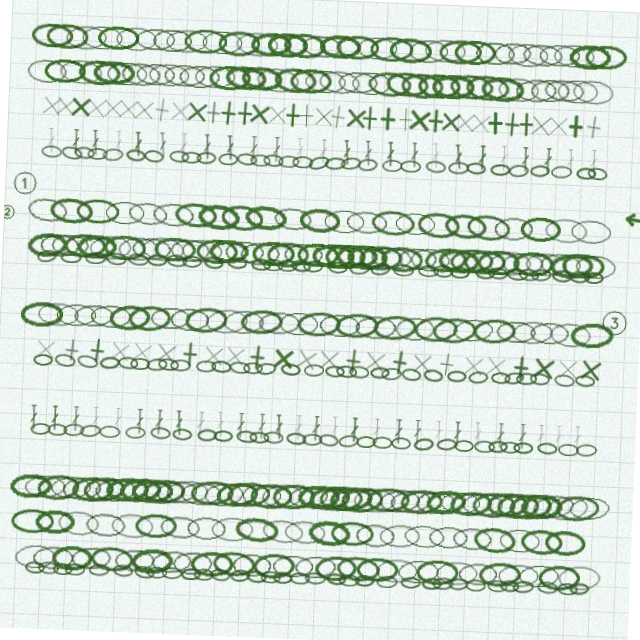chain: (538, 482, 584, 513), (551, 483, 598, 513), (335, 483, 381, 513), (89, 483, 134, 513), (161, 483, 206, 513), (222, 483, 267, 513), (515, 483, 560, 513), (209, 483, 253, 513), (315, 483, 359, 513), (347, 483, 391, 513), (184, 310, 229, 339), (451, 310, 496, 339), (233, 483, 278, 512), (384, 483, 429, 512), (395, 483, 440, 512), (204, 311, 250, 339), (432, 311, 478, 339), (562, 484, 608, 512), (21, 206, 65, 235), (421, 241, 465, 270), (43, 483, 87, 512), (67, 483, 111, 512), (125, 483, 169, 512), (267, 483, 311, 512), (293, 483, 337, 512), (246, 68, 291, 96), (462, 207, 507, 235), (503, 484, 548, 512), (481, 519, 526, 547), (432, 483, 475, 512), (308, 68, 352, 96), (122, 207, 166, 235), (216, 207, 260, 235), (547, 242, 591, 270), (108, 311, 152, 339), (128, 311, 172, 339), (373, 311, 417, 339), (100, 484, 144, 512), (149, 484, 193, 512), (407, 484, 451, 512), (456, 484, 500, 512), (575, 484, 619, 512), (269, 519, 313, 547), (159, 554, 203, 582), (49, 68, 94, 95), (138, 242, 183, 269), (567, 554, 612, 581), (193, 207, 236, 235), (440, 207, 483, 235), (78, 484, 121, 512), (272, 33, 316, 60), (68, 68, 112, 95), (264, 68, 308, 95), (376, 68, 420, 95), (440, 68, 484, 95), (456, 68, 500, 95), (562, 68, 606, 95), (45, 207, 89, 234), (147, 207, 191, 234), (170, 207, 214, 234), (367, 207, 411, 234), (367, 242, 411, 269), (447, 242, 491, 269), (240, 311, 284, 338), (297, 311, 341, 338), (335, 311, 379, 338), (414, 311, 458, 338), (473, 311, 517, 338), (570, 311, 614, 338), (30, 484, 74, 511), (56, 484, 100, 511), (112, 484, 156, 511), (172, 484, 216, 511), (197, 484, 241, 511), (279, 484, 323, 511), (326, 484, 370, 511), (373, 484, 417, 511), (468, 484, 512, 511), (493, 484, 537, 511), (243, 519, 287, 546), (411, 519, 455, 546), (100, 554, 144, 581), (222, 554, 266, 581), (262, 554, 306, 581), (303, 554, 347, 581), (346, 554, 390, 581), (406, 554, 450, 581), (488, 554, 532, 581), (527, 554, 571, 581), (24, 242, 66, 270), (540, 208, 585, 234), (110, 68, 153, 95), (215, 68, 258, 95), (231, 68, 274, 95), (533, 68, 576, 95), (240, 207, 283, 234), (413, 207, 456, 234), (511, 311, 554, 338), (16, 484, 59, 511), (304, 484, 347, 511), (421, 484, 464, 511), (527, 484, 570, 511), (65, 519, 108, 546), (316, 519, 359, 546), (23, 554, 66, 581), (79, 554, 122, 581), (140, 554, 183, 581), (324, 554, 367, 581), (224, 34, 268, 60), (358, 69, 402, 95), (391, 69, 435, 95), (471, 69, 515, 95), (114, 243, 158, 269), (356, 243, 400, 269), (498, 243, 542, 269), (222, 312, 266, 338), (257, 312, 301, 338), (360, 485, 404, 511), (479, 485, 523, 511), (481, 33, 523, 60), (268, 207, 310, 234), (54, 34, 97, 60), (154, 34, 197, 60), (239, 34, 282, 60), (289, 34, 332, 60), (378, 34, 421, 60), (428, 34, 471, 60), (510, 34, 553, 60), (16, 69, 59, 95), (505, 69, 548, 95), (341, 208, 384, 234), (86, 243, 129, 269), (178, 243, 221, 269), (264, 243, 307, 269), (378, 243, 421, 269), (435, 243, 478, 269), (486, 243, 529, 269), (522, 243, 565, 269), (20, 312, 63, 338), (37, 312, 80, 338), (55, 312, 98, 338), (72, 312, 115, 338), (354, 312, 397, 338), (394, 312, 437, 338), (549, 312, 592, 338), (186, 485, 229, 511), (257, 485, 300, 511), (92, 520, 135, 546), (119, 520, 162, 546), (292, 520, 335, 546), (529, 520, 572, 546), (41, 555, 84, 581), (200, 555, 243, 581), (385, 555, 428, 581), (445, 555, 488, 581), (507, 555, 550, 581), (359, 34, 403, 59), (207, 34, 249, 60), (397, 34, 439, 60), (496, 34, 538, 60), (488, 69, 530, 95), (295, 208, 337, 234), (489, 208, 531, 234), (566, 208, 608, 234), (128, 243, 170, 269), (236, 243, 278, 269), (461, 243, 503, 269), (572, 243, 614, 269), (138, 485, 180, 511), (167, 520, 209, 546), (363, 520, 405, 546), (387, 520, 429, 546), (460, 520, 502, 546), (553, 520, 595, 546), (123, 555, 165, 581), (181, 555, 223, 581), (467, 555, 509, 581), (548, 555, 590, 581), (35, 34, 78, 59), (86, 34, 129, 59), (104, 34, 147, 59), (173, 34, 216, 59), (190, 34, 233, 59), (325, 34, 368, 59), (413, 34, 456, 59), (443, 34, 486, 59), (527, 34, 570, 59), (542, 34, 585, 59), (574, 34, 617, 59), (34, 69, 77, 94), (96, 69, 139, 94), (138, 69, 181, 94), (153, 69, 196, 94), (168, 69, 211, 94), (199, 69, 242, 94), (280, 69, 323, 94), (294, 69, 337, 94), (408, 69, 451, 94), (422, 69, 465, 94), (547, 69, 590, 94), (72, 208, 115, 233), (390, 208, 433, 233), (61, 243, 104, 268), (249, 243, 292, 268), (294, 243, 337, 268), (309, 243, 352, 268), (475, 243, 518, 268), (559, 243, 602, 268), (89, 312, 132, 337), (318, 312, 361, 337), (446, 485, 489, 510), (19, 520, 62, 545), (219, 520, 262, 545), (339, 520, 382, 545), (281, 555, 324, 580), (366, 555, 409, 580), (426, 555, 469, 580), (74, 243, 115, 269), (20, 34, 62, 59), (70, 34, 112, 59), (123, 34, 165, 59), (140, 34, 182, 59), (256, 34, 298, 59), (308, 34, 350, 59), (345, 34, 387, 59), (463, 34, 505, 59), (558, 34, 600, 59), (83, 69, 125, 94), (125, 69, 167, 94), (184, 69, 226, 94), (327, 69, 369, 94), (341, 69, 383, 94), (520, 69, 562, 94), (100, 208, 142, 233), (319, 208, 361, 233), (516, 208, 558, 233), (36, 243, 78, 268), (101, 243, 143, 268), (151, 243, 193, 268), (166, 243, 208, 268), (193, 243, 235, 268), (221, 243, 263, 268), (280, 243, 322, 268), (322, 243, 364, 268), (333, 243, 375, 268), (344, 243, 386, 268), (394, 243, 436, 268), (407, 243, 449, 268), (510, 243, 552, 268), (537, 243, 579, 268), (149, 312, 191, 337), (169, 312, 211, 337), (278, 312, 320, 337), (495, 312, 537, 337), (529, 312, 571, 337), (248, 485, 290, 510), (143, 520, 185, 545), (194, 520, 236, 545), (436, 520, 478, 545), (507, 520, 549, 545), (61, 555, 103, 580), (241, 555, 283, 580), (47, 243, 88, 268), (206, 243, 247, 268), (43, 520, 84, 545), (301, 154, 324, 172), (54, 155, 77, 171), (78, 363, 101, 379), (34, 259, 56, 275), (56, 363, 78, 378), (334, 155, 355, 170), (506, 363, 527, 378), (318, 156, 340, 170), (103, 260, 125, 274), (125, 260, 147, 274), (347, 260, 369, 274), (148, 364, 170, 378), (231, 364, 253, 378), (84, 433, 106, 447), (96, 156, 117, 170), (119, 156, 140, 170), (137, 156, 158, 170), (351, 156, 372, 170), (502, 156, 523, 170), (581, 156, 602, 170), (201, 260, 222, 274), (288, 260, 309, 274), (368, 260, 389, 274), (568, 260, 589, 274), (101, 364, 122, 378), (258, 364, 279, 378), (383, 364, 404, 378), (403, 364, 424, 378), (425, 364, 446, 378), (470, 364, 491, 378), (556, 364, 577, 378), (323, 433, 344, 447), (343, 433, 364, 447), (418, 433, 439, 447), (144, 572, 165, 586), (220, 572, 241, 586), (256, 572, 277, 586), (504, 260, 526, 273), (547, 572, 569, 585), (230, 156, 251, 169), (419, 156, 440, 169), (442, 156, 463, 169), (545, 156, 566, 169), (164, 260, 185, 273), (160, 364, 181, 377), (282, 364, 303, 377), (338, 364, 359, 377), (518, 364, 539, 377), (68, 433, 89, 446), (241, 433, 262, 446), (441, 433, 462, 446), (581, 433, 602, 446), (48, 572, 69, 585), (99, 572, 120, 585), (240, 572, 261, 585), (315, 572, 336, 585), (336, 572, 357, 585), (443, 572, 464, 585), (523, 572, 544, 585), (35, 156, 55, 169), (68, 156, 88, 169), (163, 156, 183, 169), (190, 156, 210, 169), (257, 156, 277, 169), (460, 156, 480, 169), (524, 156, 544, 169), (225, 260, 245, 273), (431, 260, 451, 273), (486, 260, 506, 273), (517, 260, 537, 273), (529, 260, 549, 273), (550, 260, 570, 273), (120, 364, 140, 377), (213, 364, 233, 377), (306, 364, 326, 377), (351, 364, 371, 377), (372, 364, 392, 377), (532, 364, 552, 377), (577, 364, 597, 377), (155, 433, 175, 446), (202, 433, 222, 446), (268, 433, 288, 446), (291, 433, 311, 446), (493, 433, 513, 446), (542, 433, 562, 446), (35, 572, 55, 585), (123, 572, 143, 585), (459, 572, 479, 585), (510, 572, 530, 585), (580, 572, 600, 585), (272, 157, 293, 169), (286, 157, 307, 169), (394, 157, 415, 169), (58, 261, 79, 273), (83, 261, 104, 273), (391, 261, 412, 273), (416, 261, 437, 273), (172, 365, 193, 377), (104, 434, 125, 446), (479, 434, 500, 446), (563, 434, 584, 446), (349, 573, 370, 585), (387, 573, 408, 585), (81, 157, 101, 169), (175, 157, 195, 169), (212, 157, 232, 169), (244, 157, 264, 169), (376, 157, 396, 169), (484, 157, 504, 169), (570, 157, 590, 169), (145, 261, 165, 273), (180, 261, 200, 273), (249, 261, 269, 273), (261, 261, 281, 273), (275, 261, 295, 273), (301, 261, 321, 273), (326, 261, 346, 273), (448, 261, 468, 273), (473, 261, 493, 273), (582, 261, 602, 273), (35, 365, 55, 377), (132, 365, 152, 377), (198, 365, 218, 377), (245, 365, 265, 377), (327, 365, 347, 377), (449, 365, 469, 377), (493, 365, 513, 377), (35, 434, 55, 446), (52, 434, 72, 446), (130, 434, 150, 446), (177, 434, 197, 446), (218, 434, 238, 446), (254, 434, 274, 446), (307, 434, 327, 446), (361, 434, 381, 446), (377, 434, 397, 446), (396, 434, 416, 446), (459, 434, 479, 446), (505, 434, 525, 446), (518, 434, 538, 446), (63, 573, 83, 585), (75, 573, 95, 585), (157, 573, 177, 585), (172, 573, 192, 585), (191, 573, 211, 585), (204, 573, 224, 585), (271, 573, 291, 585), (283, 573, 303, 585), (300, 573, 320, 585), (365, 573, 385, 585), (411, 573, 431, 585), (432, 573, 452, 585), (476, 573, 496, 585), (498, 573, 518, 585), (568, 573, 588, 585)
double: (151, 139, 161, 164), (447, 139, 457, 164), (200, 416, 210, 441), (40, 139, 49, 164), (84, 139, 93, 164), (127, 139, 136, 164), (196, 139, 205, 164), (219, 139, 228, 164), (289, 139, 298, 164), (336, 139, 345, 164), (357, 139, 366, 164), (537, 139, 546, 164), (159, 416, 168, 441), (179, 416, 188, 441), (220, 416, 229, 441), (279, 416, 288, 441), (316, 416, 325, 441), (478, 416, 487, 441), (65, 139, 73, 164), (108, 139, 116, 164), (173, 139, 181, 164), (243, 139, 251, 164), (266, 139, 274, 164), (313, 139, 321, 164), (380, 139, 388, 164), (404, 139, 412, 164), (425, 139, 433, 164), (472, 139, 480, 164), (493, 139, 501, 164), (515, 139, 523, 164), (560, 139, 568, 164), (583, 139, 591, 164), (34, 416, 42, 441), (55, 416, 63, 441), (76, 416, 84, 441), (96, 416, 104, 441), (118, 416, 126, 441), (140, 416, 148, 441), (241, 416, 249, 441), (262, 416, 270, 441), (299, 416, 307, 441), (335, 416, 343, 441), (355, 416, 363, 441), (377, 416, 385, 441), (399, 416, 407, 441), (418, 416, 426, 441), (439, 416, 447, 441), (458, 416, 466, 441), (501, 416, 509, 441), (523, 416, 531, 441), (541, 416, 549, 441), (559, 416, 567, 441), (578, 416, 586, 441)
noise: (6, 181, 34, 209), (600, 297, 628, 325), (618, 200, 640, 217), (0, 215, 12, 233)
single: (294, 346, 322, 374), (30, 103, 57, 130), (44, 103, 71, 130), (140, 103, 167, 130), (238, 103, 265, 130), (316, 103, 343, 130), (398, 103, 425, 130), (572, 103, 599, 130), (85, 346, 112, 373), (108, 346, 135, 373), (130, 346, 157, 373), (154, 346, 181, 373), (223, 346, 250, 373), (363, 346, 390, 373), (388, 346, 415, 373), (435, 346, 462, 373), (484, 346, 511, 373), (532, 346, 559, 373), (579, 346, 606, 373), (60, 346, 86, 374), (75, 104, 101, 130), (107, 104, 133, 130), (123, 104, 149, 130), (159, 104, 185, 130), (176, 104, 202, 130), (192, 104, 218, 130), (207, 104, 233, 130), (335, 104, 361, 130), (430, 104, 456, 130), (444, 104, 470, 130), (460, 104, 486, 130), (491, 104, 517, 130), (520, 104, 546, 130), (34, 347, 60, 373), (202, 347, 228, 373), (246, 347, 272, 373), (272, 347, 298, 373), (342, 347, 368, 373), (462, 347, 488, 373), (510, 347, 536, 373), (60, 104, 85, 129), (92, 104, 117, 129), (224, 104, 249, 129), (257, 104, 282, 129), (272, 104, 297, 129), (286, 104, 311, 129), (303, 104, 328, 129), (349, 104, 374, 129), (367, 104, 392, 129), (385, 104, 410, 129), (415, 104, 440, 129), (475, 104, 500, 129), (506, 104, 531, 129), (538, 104, 563, 129), (555, 104, 580, 129), (179, 347, 204, 372), (318, 347, 343, 372), (411, 347, 436, 372), (557, 347, 582, 372)
